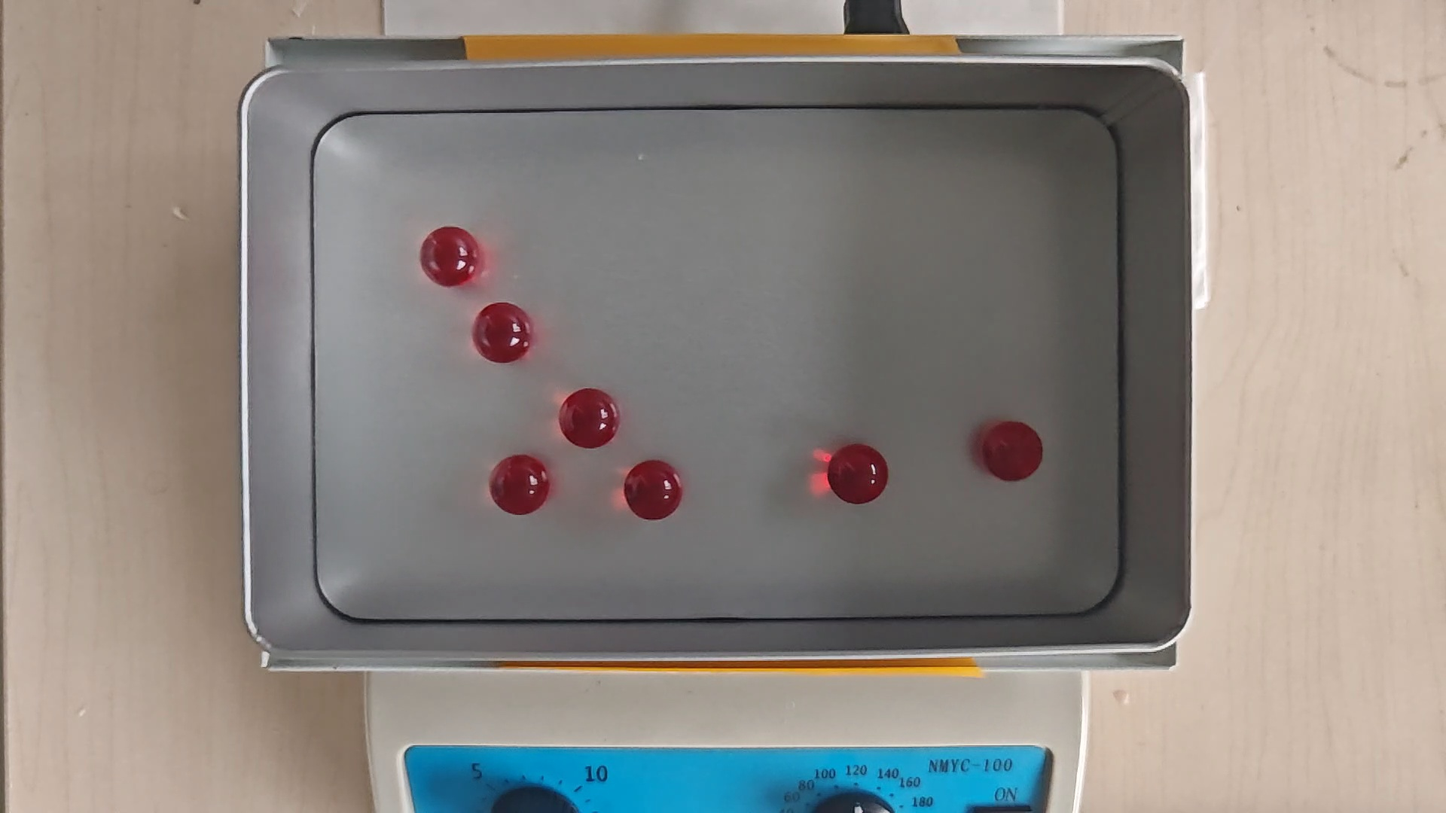ball: (471, 302, 535, 365), (488, 454, 552, 516), (826, 443, 889, 505), (419, 223, 480, 287), (559, 388, 620, 449), (624, 460, 683, 522), (984, 421, 1042, 483)
container: (313, 106, 1123, 617)
